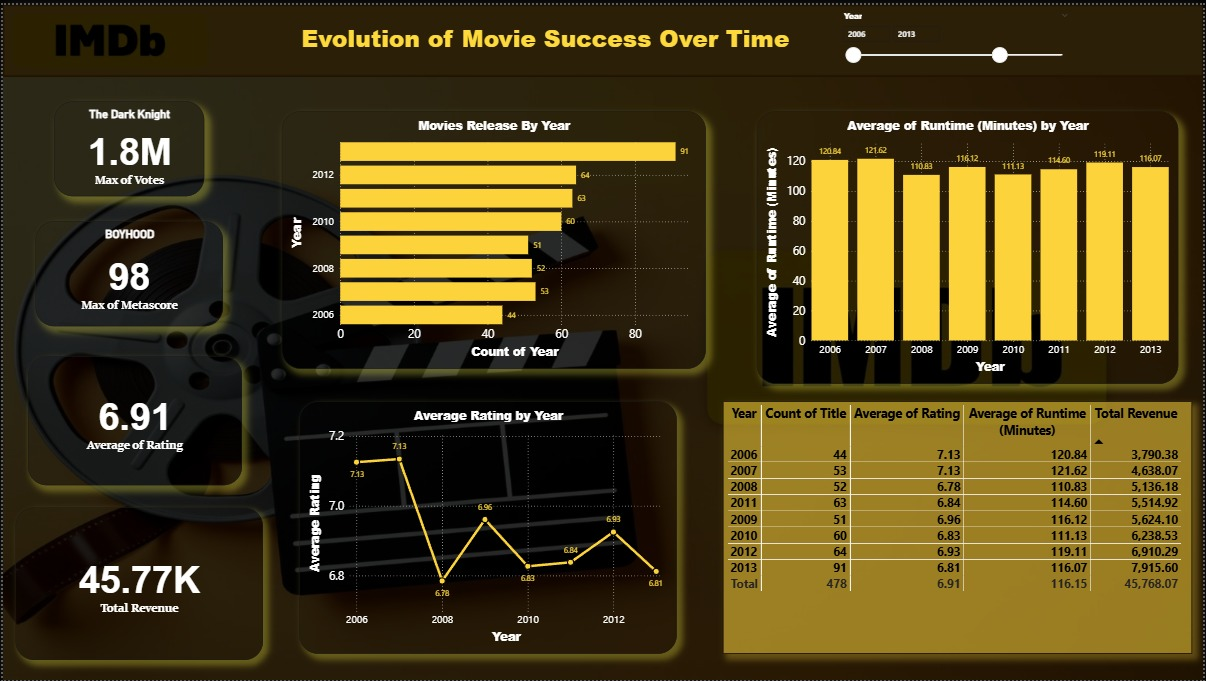

What the dashboard file says about the page in this screenshot:
{"tool":"powerbi","page":{"name":"Page 1","canvas":[1920,1080],"ordinal":0},"visuals":[{"type":"barChart","title":"Movies Release By Year","fields":{"Category":["IMDB-Movie-Data.Year"],"Y":["CountNonNull(IMDB-Movie-Data.Year)"]},"box":[446,170,678,412],"z":0},{"type":"lineChart","fields":{"Category":["IMDB-Movie-Data.Year"],"Y":["IMDB-Movie-Data.Average Rating"]},"box":[474,634,604,404],"z":1000},{"type":"textbox","box":[412,22,912,74],"z":2000},{"type":"card","fields":{"Values":["Avg(IMDB-Movie-Data.Rating)"]},"box":[40,562,342,206],"z":3000},{"type":"clusteredColumnChart","fields":{"Category":["IMDB-Movie-Data.Year"],"Y":["Avg(IMDB-Movie-Data.Runtime (Minutes))"]},"box":[1206,170,674,436],"z":4000},{"type":"card","fields":{"Values":["IMDB-Movie-Data.Total Revenue"]},"box":[20,804,396,244],"z":5000},{"type":"card","title":"The Dark Knight","fields":{"Values":["Max(IMDB-Movie-Data.Votes)"]},"box":[82,154,240,152],"z":6000},{"type":"tableEx","fields":{"Values":["IMDB-Movie-Data.Year","IMDB-Movie-Data.Title","Avg(IMDB-Movie-Data.Rating)","Avg(IMDB-Movie-Data.Runtime (Minutes))","IMDB-Movie-Data.Total Revenue"]},"box":[1152,634,750,404],"z":7000},{"type":"card","title":"BOYHOOD","fields":{"Values":["Max(IMDB-Movie-Data.Metascore)"]},"box":[52,346,300,168],"z":8000},{"type":"slicer","fields":{"Values":["IMDB-Movie-Data.Year"]},"box":[1298,14,458,92],"z":9000}]}

Visuals, with their boxes in screenshot pixels (x1, y1, x2, y2), scaled from the page's 1920x1080 canvas onto the 1206x681 screenshot:
"Movies Release By Year" barChart: select_region(280, 107, 706, 367)
lineChart - IMDB-Movie-Data.Year x IMDB-Movie-Data.Average Rating: select_region(298, 400, 677, 655)
textbox: select_region(259, 14, 832, 61)
card - Avg(IMDB-Movie-Data.Rating): select_region(25, 354, 240, 484)
clusteredColumnChart - IMDB-Movie-Data.Year x Avg(IMDB-Movie-Data.Runtime (Minutes)): select_region(758, 107, 1181, 382)
card - IMDB-Movie-Data.Total Revenue: select_region(13, 507, 261, 661)
"The Dark Knight" card: select_region(52, 97, 202, 193)
tableEx - IMDB-Movie-Data.Year x IMDB-Movie-Data.Title: select_region(724, 400, 1195, 655)
"BOYHOOD" card: select_region(33, 218, 221, 324)
slicer - IMDB-Movie-Data.Year: select_region(815, 9, 1103, 67)
